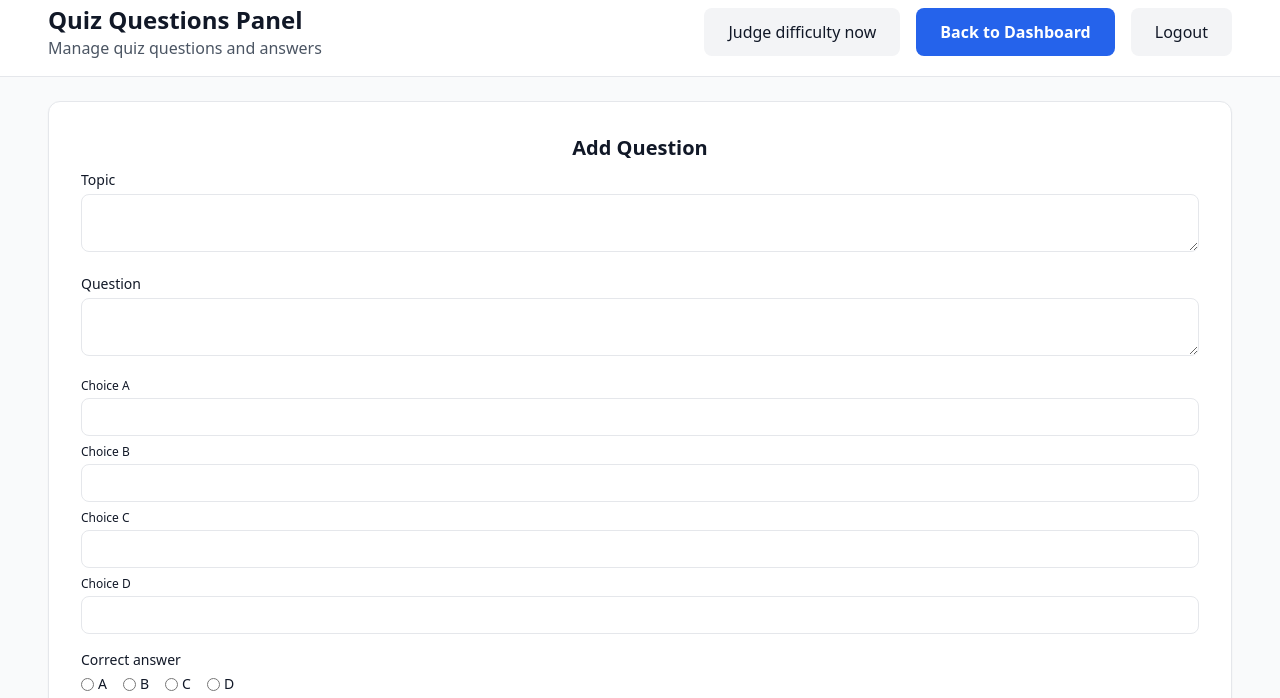
it: QuestionPanelPage › shows an error message when saving a new question fails
Type "stem" into the 1st text box.
click(640, 223); type("stem")  # box [81,194,1199,252]
Type "a" into the 1st field.
click(640, 417); type("a")  # box [81,398,1199,436]
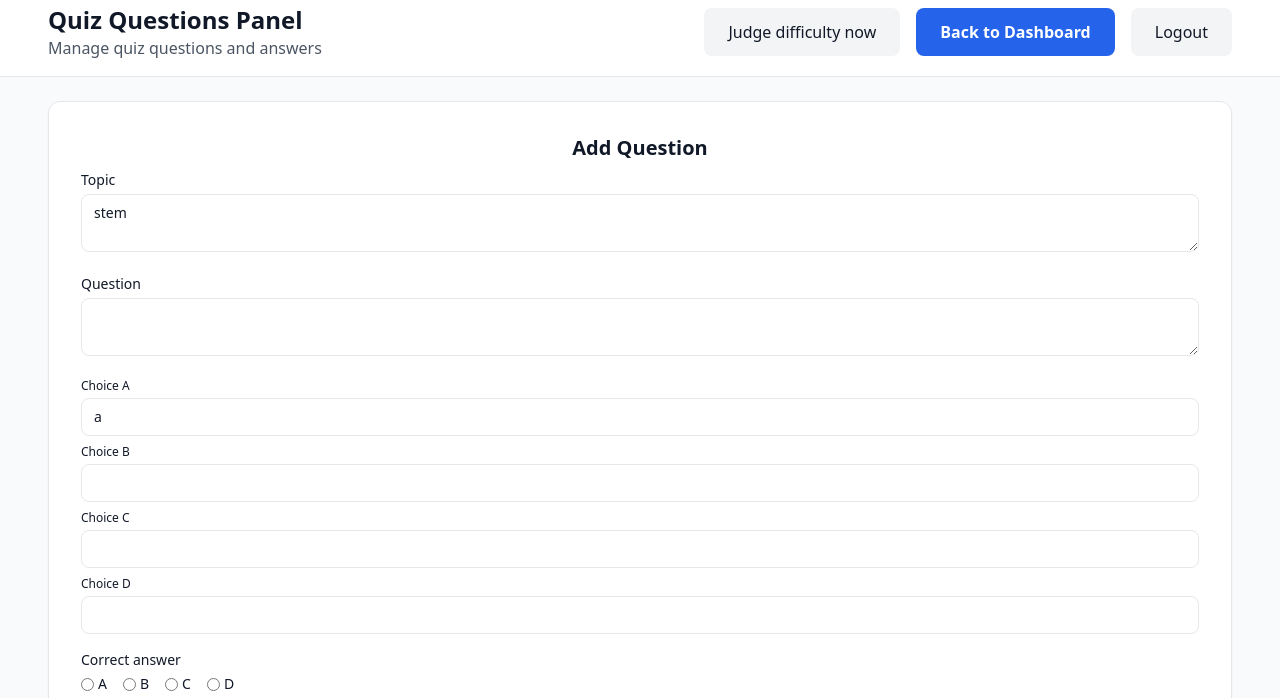
Type "b" into the 2nd field.
click(640, 483); type("b")  # box [81,464,1199,502]
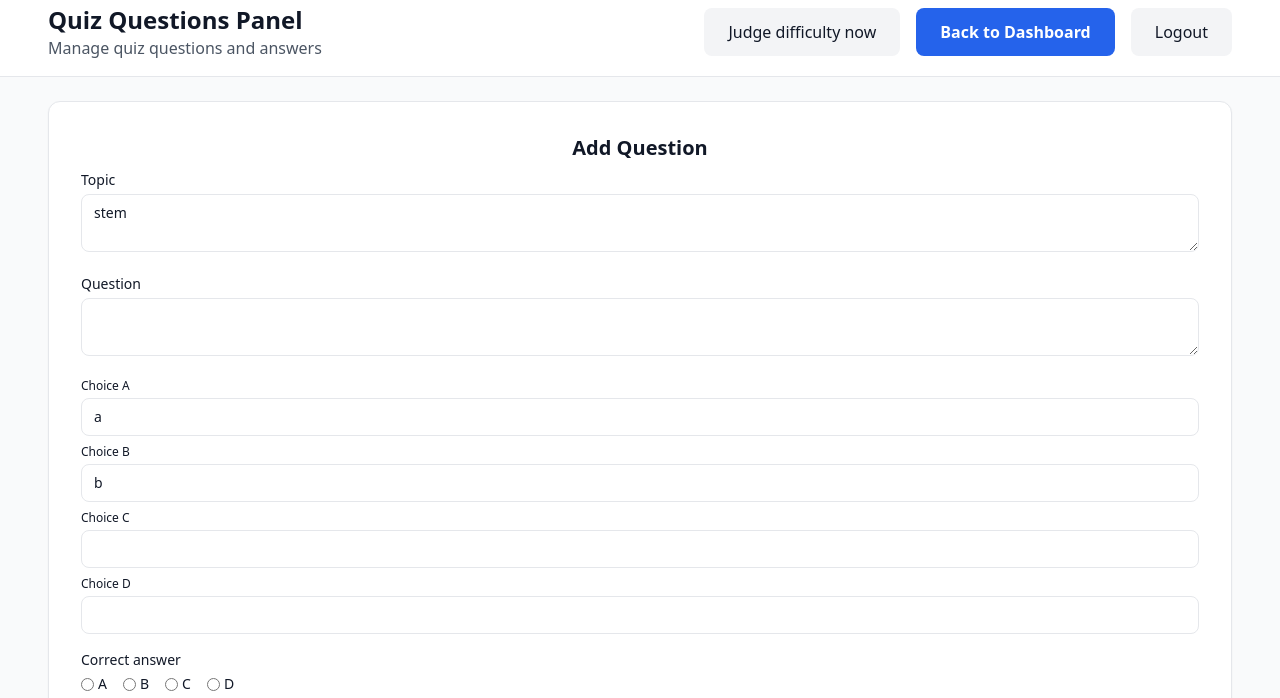
Type "c" into the 3rd field.
click(640, 549); type("c")  # box [81,530,1199,568]
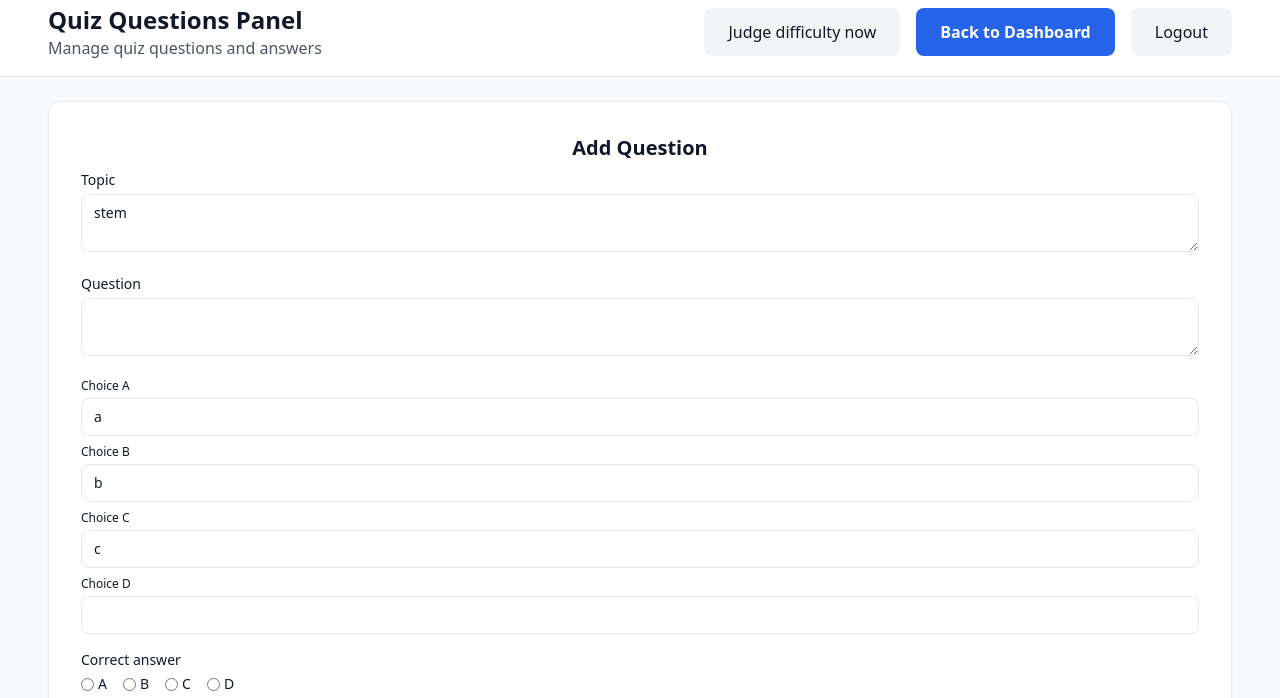
Type "d" into the 4th field.
click(640, 615); type("d")  # box [81,596,1199,634]
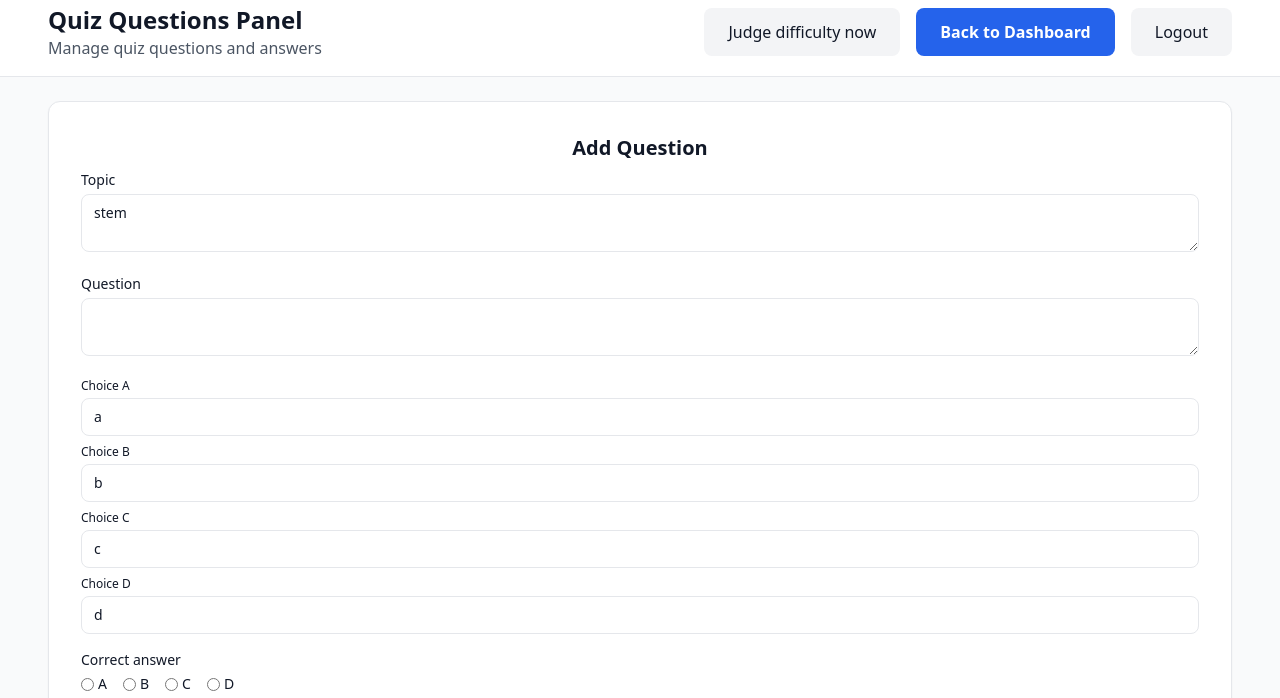
Click the radio button labelled "A".
click(88, 684)  # box [81,678,94,690]
(page scrolled)
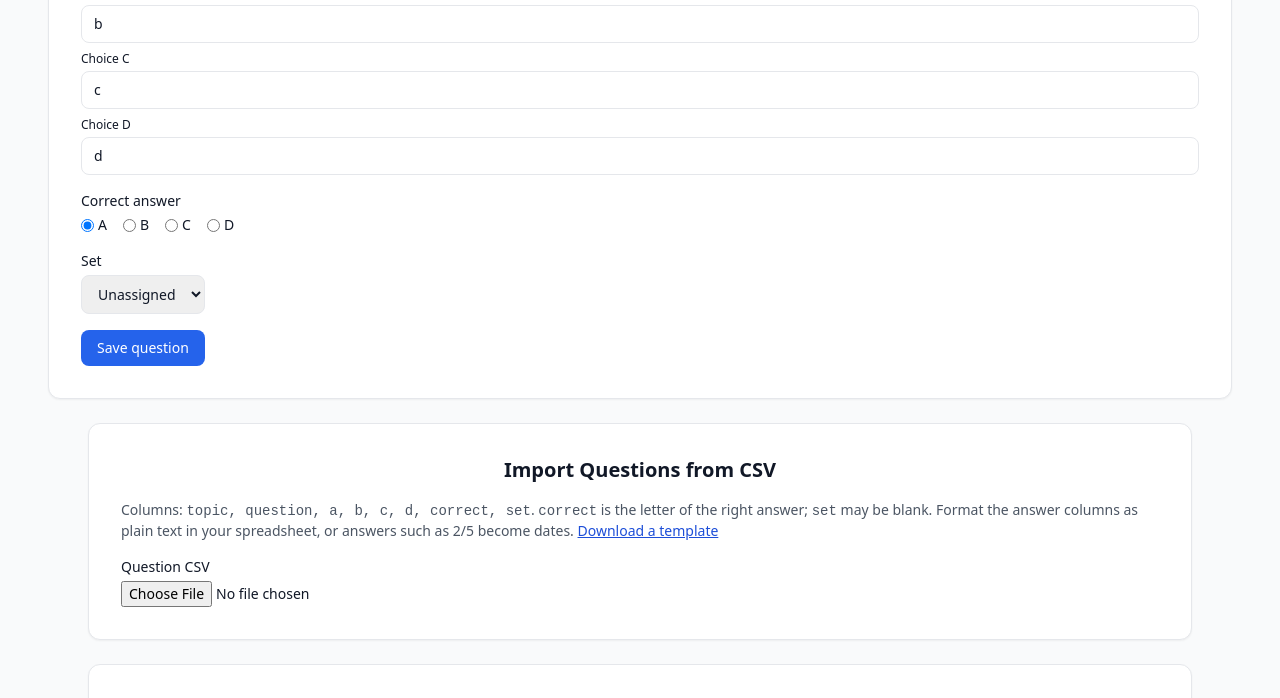
Click the button "Save question".
click(143, 348)  # box [81,330,205,366]
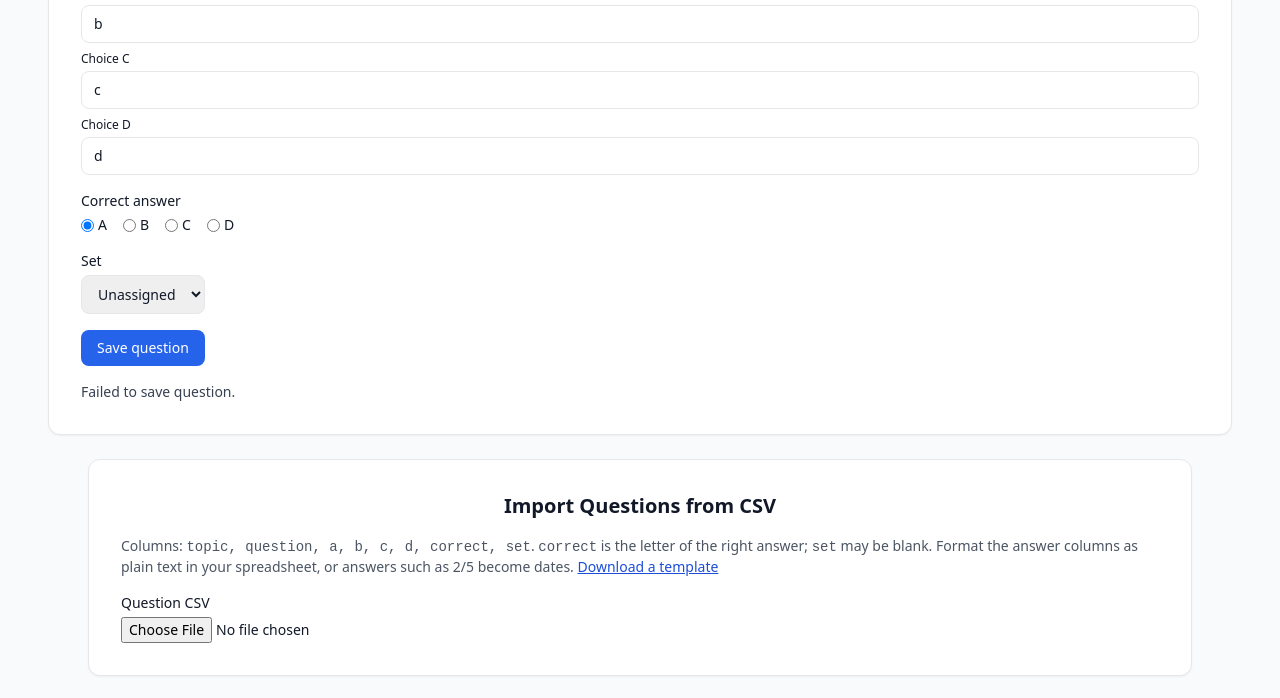
Result: the text "Failed to save question." is shown at [81,382,235,401]
